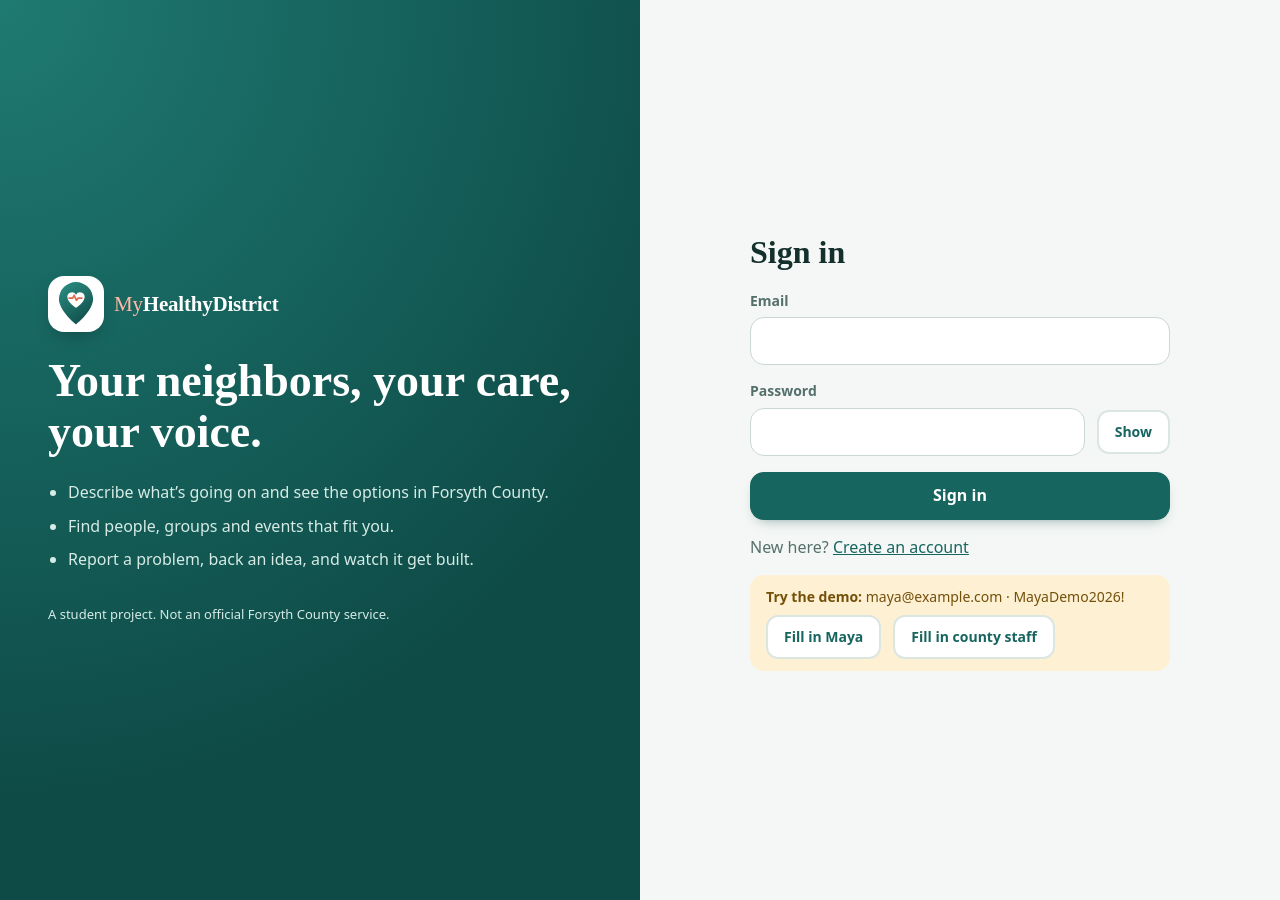
Test: login screens › stores the token and opens the home page after signing in
The width and height of the screenshot is (1280, 900).
Click the button "Fill in Maya". click: (824, 637)
box: 766,615 -> 881,659
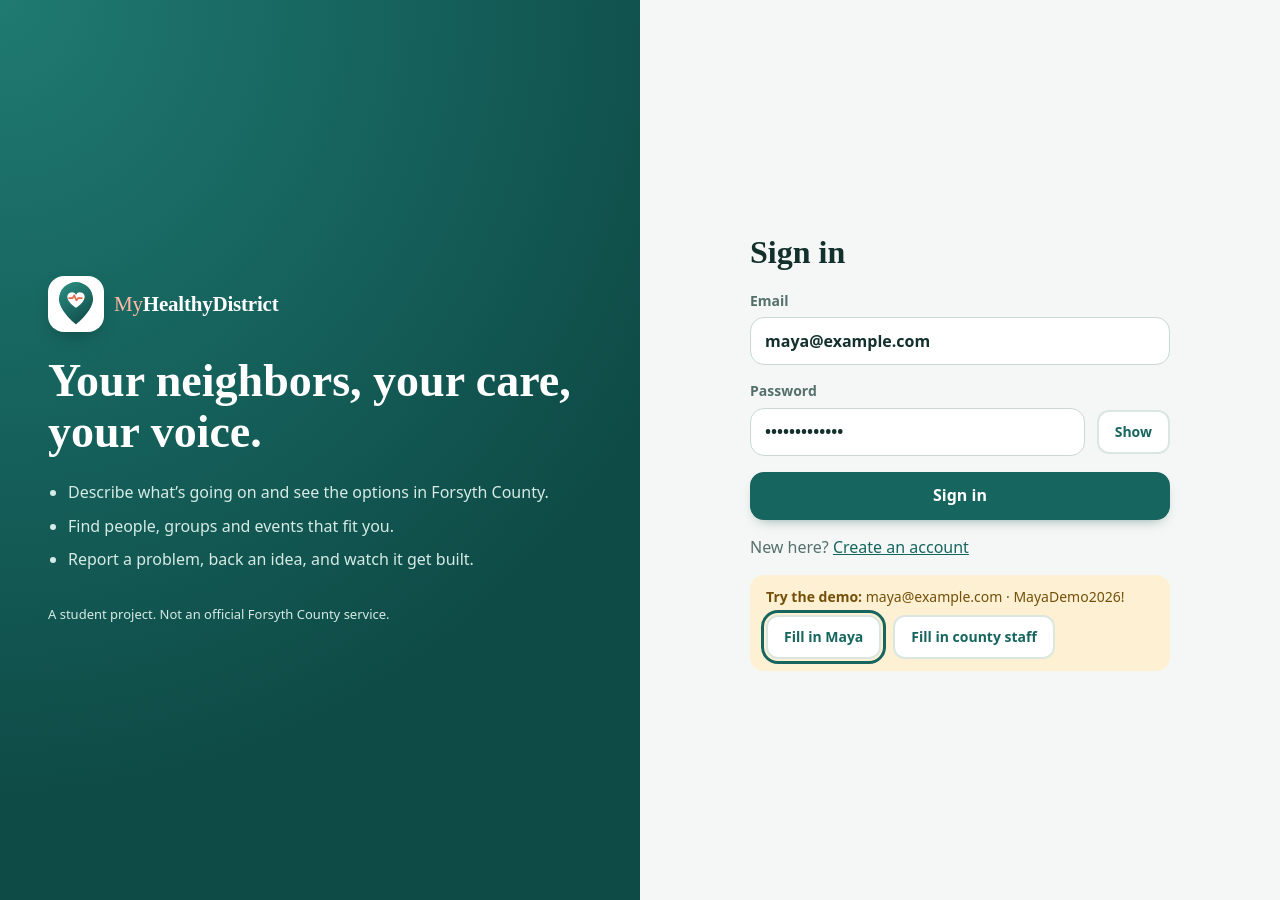
Click the button "Sign in". click: (960, 496)
box: 750,472 -> 1170,520
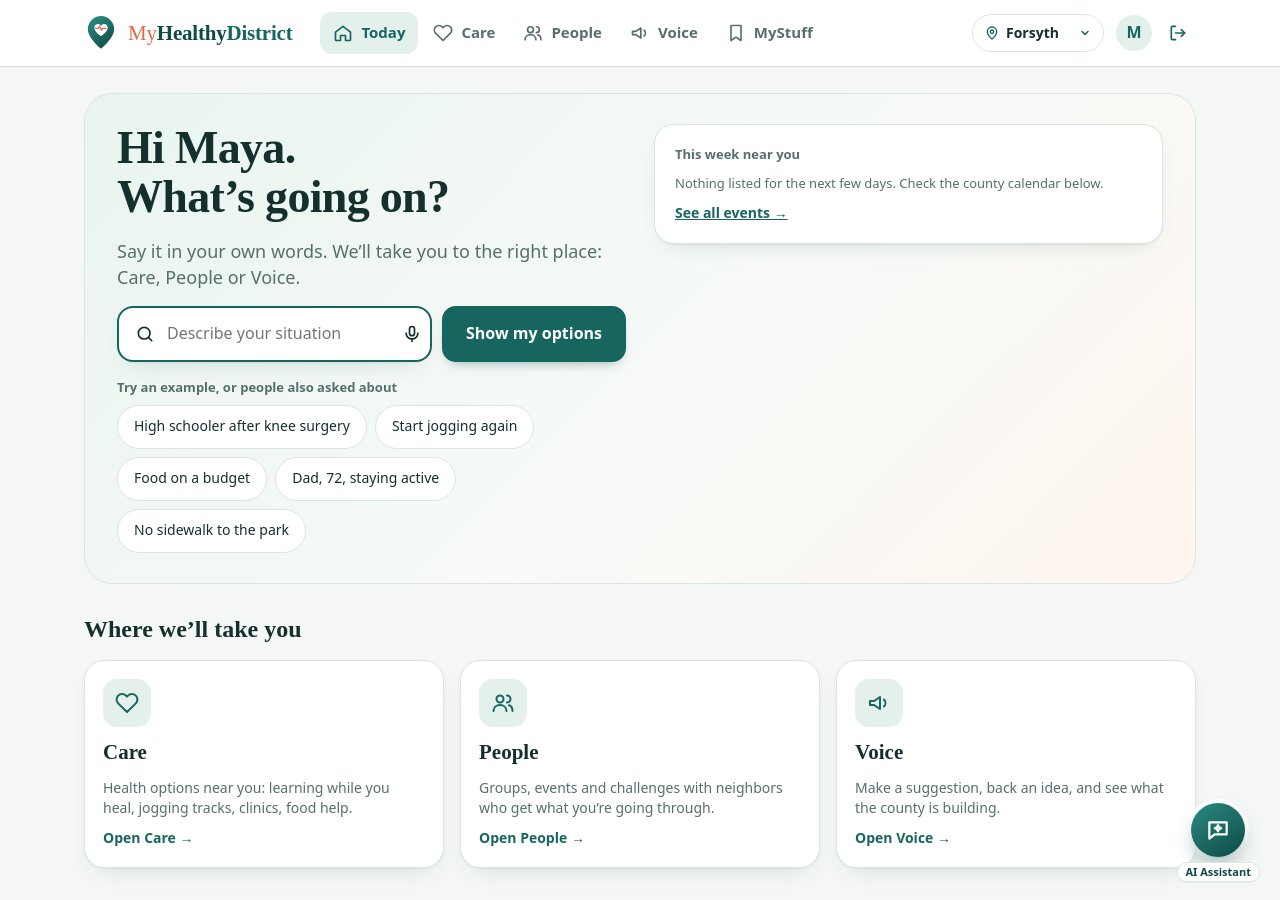
Now the heading "Hi Maya.What’s going on?" is shown, box 117,122 -> 449,222
